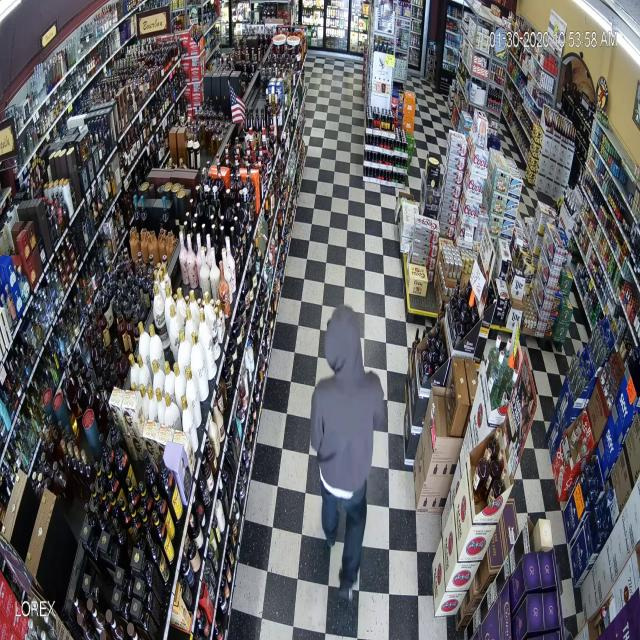normal: (282, 300, 406, 596)
